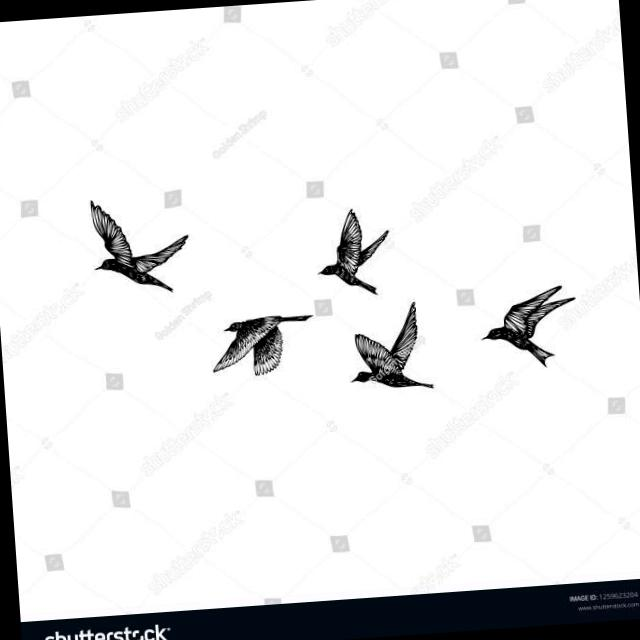bird: (82, 188, 203, 296), (341, 294, 437, 398), (475, 280, 580, 375), (206, 306, 322, 379), (311, 202, 395, 300)
